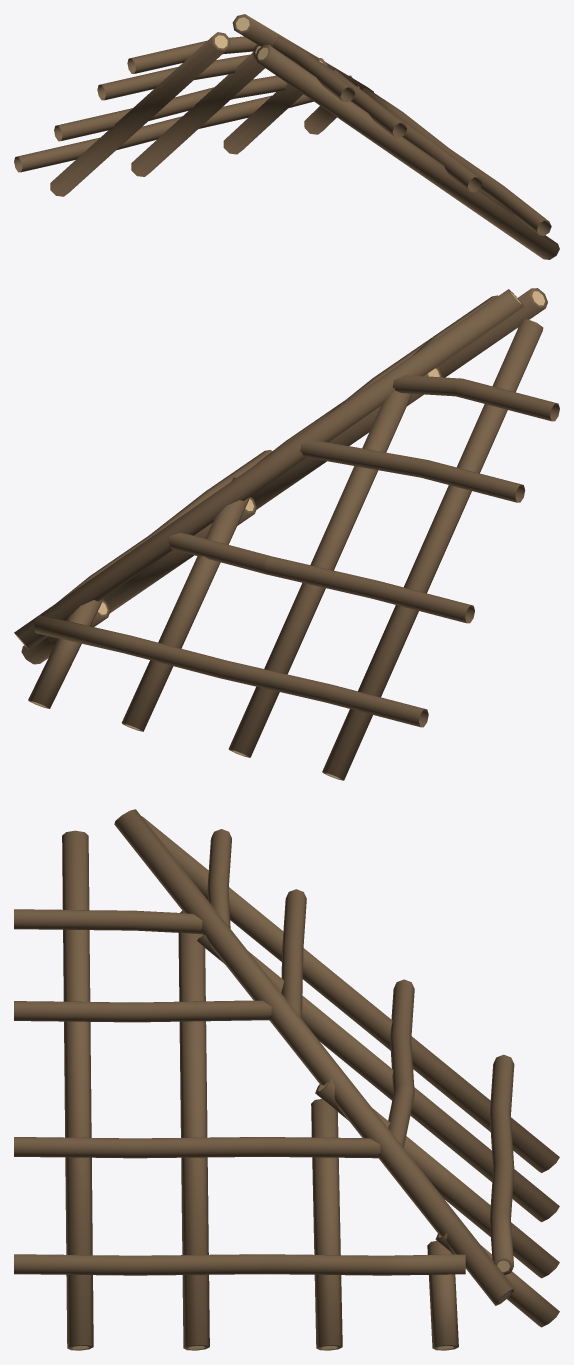
Rendered from rpgpp_ag_roof_support_01_9x4x3_corner_b.fbx.
3 views of the same model, one above another, from view 1: azimuth 30°, elevation 25°; view 2: azimuth 150°, elevation 25°; view 3: azimuth 270°, elevation 25° (orthographic). The views are drawn at different scales.
Parts seen in each view (by area): view 1: rpgpp_ag_roof_support_01_9x4x3_corner_b; view 2: rpgpp_ag_roof_support_01_9x4x3_corner_b; view 3: rpgpp_ag_roof_support_01_9x4x3_corner_b.
Boxes of the visible parts, x1,y1,x2,y2 form: rpgpp_ag_roof_support_01_9x4x3_corner_b: (14,14,559,259); rpgpp_ag_roof_support_01_9x4x3_corner_b: (14,288,559,780); rpgpp_ag_roof_support_01_9x4x3_corner_b: (14,809,559,1350).
Size of the model in its own units: 6.4 by 4.94 by 6.58.
